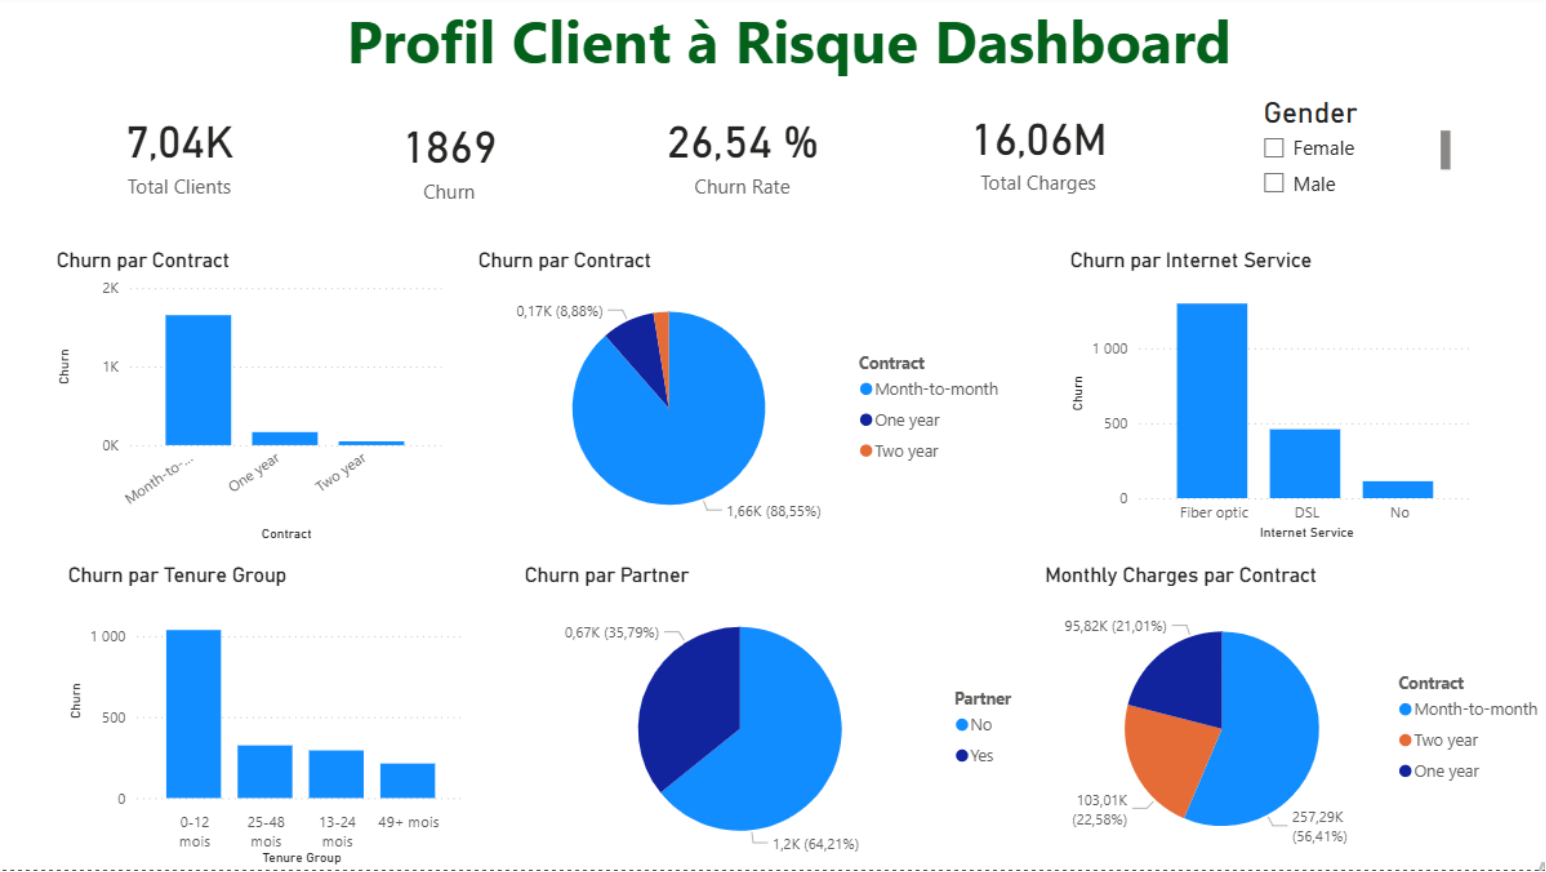

Layout of this report page (visuals, bound fields, positions):
{"tool":"powerbi","page":{"name":"Page 1","canvas":[1280,720],"ordinal":0},"visuals":[{"type":"textbox","box":[279.7,0,767.2,92.6],"z":0},{"type":"columnChart","fields":{"Category":["Dim Contract.Contract"],"Y":["Fact Churn.Churn"]},"box":[40.9,208.4,327.1,245.4],"z":1000},{"type":"columnChart","fields":{"Category":["Dim Tenure Group.Tenure Group"],"Y":["Fact Churn.Churn"]},"box":[50.6,467.3,336.9,253.1],"z":2000},{"type":"pieChart","fields":{"Category":["Dim Contract.Contract"],"Y":["Fact Churn.Churn"]},"box":[388.1,208.4,447,245],"z":3000},{"type":"pieChart","fields":{"Category":["Dim Demographics.Partner"],"Y":["Fact Churn.Churn"]},"box":[426.5,467.3,428.4,253.1],"z":4000},{"type":"pieChart","fields":{"Category":["Dim Contract.Contract"],"Y":["Fact Churn.Monthly Charges"]},"box":[854.9,467.3,424.5,253.1],"z":5000},{"type":"columnChart","fields":{"Category":["Dim Services.Internet Service"],"Y":["Fact Churn.Churn"]},"box":[874.8,208.4,342,245],"z":6000},{"type":"card","fields":{"Values":["Measures.Churn Rate"]},"box":[509,79.5,202,98.6],"z":7000},{"type":"card","fields":{"Values":["Measures.Total Clients"]},"box":[41.4,79.5,211.6,98.6],"z":8000},{"type":"card","fields":{"Values":["Fact Churn.Total Charges"]},"box":[734.9,82.7,237,87.5],"z":9000},{"type":"card","fields":{"Values":["Fact Churn.Churn"]},"box":[268.8,82.7,200.4,101.8],"z":10000},{"type":"slicer","fields":{"Values":["Dim Demographics.Gender"]},"box":[1025.9,77.9,171.8,92.3],"z":11000}]}

Visuals, with their boxes in screenshot pixels (x1, y1, x2, y2), scaled from the page's 1280x720 canvas onto the 1546x872 screenshot:
textbox: {"x1": 338, "y1": 0, "x2": 1264, "y2": 112}
columnChart - Dim Contract.Contract x Fact Churn.Churn: {"x1": 49, "y1": 252, "x2": 444, "y2": 550}
columnChart - Dim Tenure Group.Tenure Group x Fact Churn.Churn: {"x1": 61, "y1": 566, "x2": 468, "y2": 871}
pieChart - Dim Contract.Contract x Fact Churn.Churn: {"x1": 469, "y1": 252, "x2": 1009, "y2": 549}
pieChart - Dim Demographics.Partner x Fact Churn.Churn: {"x1": 515, "y1": 566, "x2": 1033, "y2": 871}
pieChart - Dim Contract.Contract x Fact Churn.Monthly Charges: {"x1": 1033, "y1": 566, "x2": 1545, "y2": 871}
columnChart - Dim Services.Internet Service x Fact Churn.Churn: {"x1": 1057, "y1": 252, "x2": 1470, "y2": 549}
card - Measures.Churn Rate: {"x1": 615, "y1": 96, "x2": 859, "y2": 216}
card - Measures.Total Clients: {"x1": 50, "y1": 96, "x2": 306, "y2": 216}
card - Fact Churn.Total Charges: {"x1": 888, "y1": 100, "x2": 1174, "y2": 206}
card - Fact Churn.Churn: {"x1": 325, "y1": 100, "x2": 567, "y2": 223}
slicer - Dim Demographics.Gender: {"x1": 1239, "y1": 94, "x2": 1447, "y2": 206}
